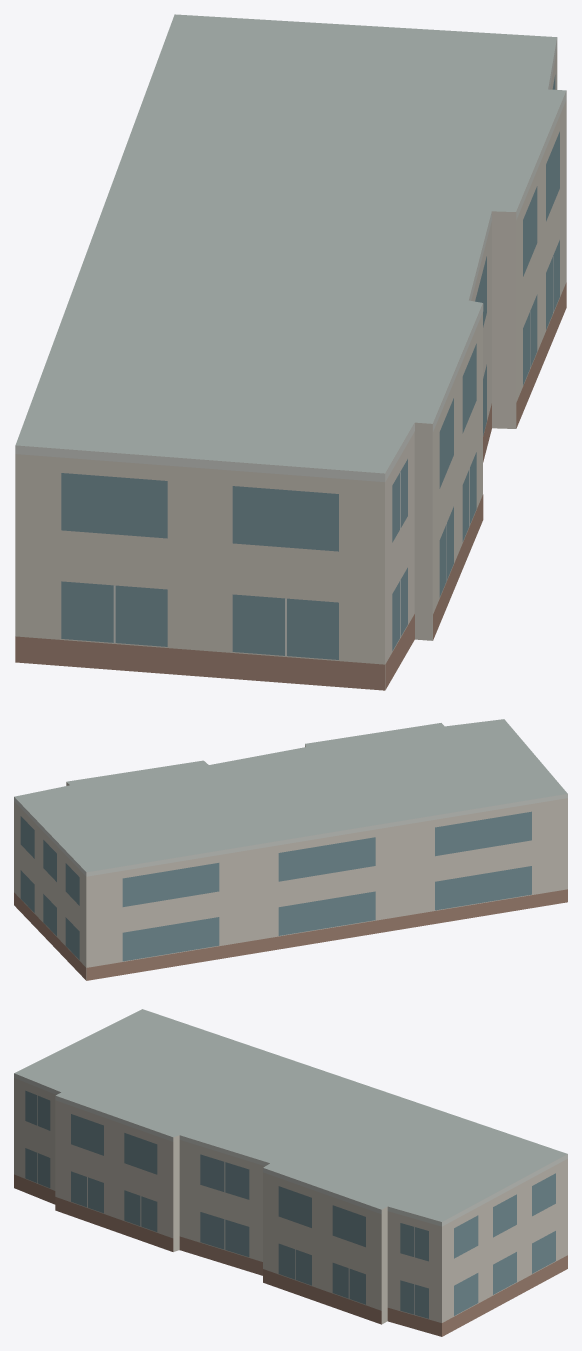
File: survey-upis-32622534.glb
3 views of the same model, one above another, from view 1: azimuth 30°, elevation 25°; view 2: azimuth 150°, elevation 25°; view 3: azimuth 270°, elevation 25° (orthographic). The views are drawn at different scales.
Parts seen in each view (by area): view 1: survey-upis-32622534.tmp; view 2: survey-upis-32622534.tmp; view 3: survey-upis-32622534.tmp.
Part boxes in pixels (bbox=[...]): survey-upis-32622534.tmp: bbox=[15, 14, 566, 690]; survey-upis-32622534.tmp: bbox=[14, 719, 567, 980]; survey-upis-32622534.tmp: bbox=[14, 1009, 567, 1336].
Size of the model in its own units: 24.27 by 6.1 by 26.67.
